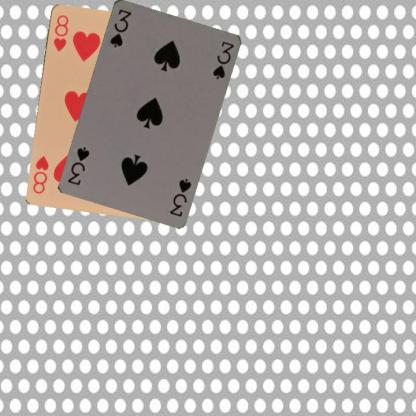3s: (167, 175, 192, 218), (107, 6, 132, 48)
8h: (50, 12, 70, 53)
